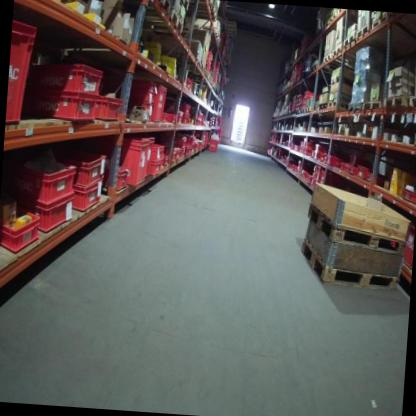pallet: (295, 236, 402, 293), (305, 203, 408, 258), (383, 93, 409, 111), (372, 11, 393, 31), (169, 9, 185, 35), (362, 99, 382, 112), (356, 24, 371, 40), (343, 32, 356, 47), (157, 0, 171, 13), (348, 101, 362, 113), (333, 44, 343, 57), (323, 52, 333, 63), (409, 93, 416, 108), (210, 8, 218, 21), (328, 98, 337, 109), (201, 64, 206, 72)
small_load_carrier: (7, 20, 41, 123), (10, 155, 78, 205), (35, 55, 105, 97), (17, 189, 75, 235), (35, 87, 99, 126), (113, 135, 151, 192), (0, 208, 43, 257), (62, 147, 110, 188), (69, 178, 107, 213), (95, 91, 126, 124), (113, 71, 158, 91), (153, 81, 171, 128), (119, 88, 156, 105), (401, 222, 414, 269), (149, 142, 167, 165), (135, 104, 155, 123), (399, 184, 416, 204), (117, 166, 130, 190), (148, 163, 166, 180), (142, 137, 154, 162), (168, 133, 188, 148), (165, 145, 177, 170), (325, 154, 342, 169), (162, 152, 172, 176), (314, 143, 327, 160), (356, 162, 368, 179), (319, 168, 329, 186), (346, 164, 357, 178), (309, 170, 323, 181), (184, 100, 193, 117), (175, 144, 182, 164), (176, 109, 184, 124), (308, 177, 316, 191), (338, 161, 349, 171), (313, 164, 323, 173), (321, 152, 328, 164), (367, 170, 373, 183)
